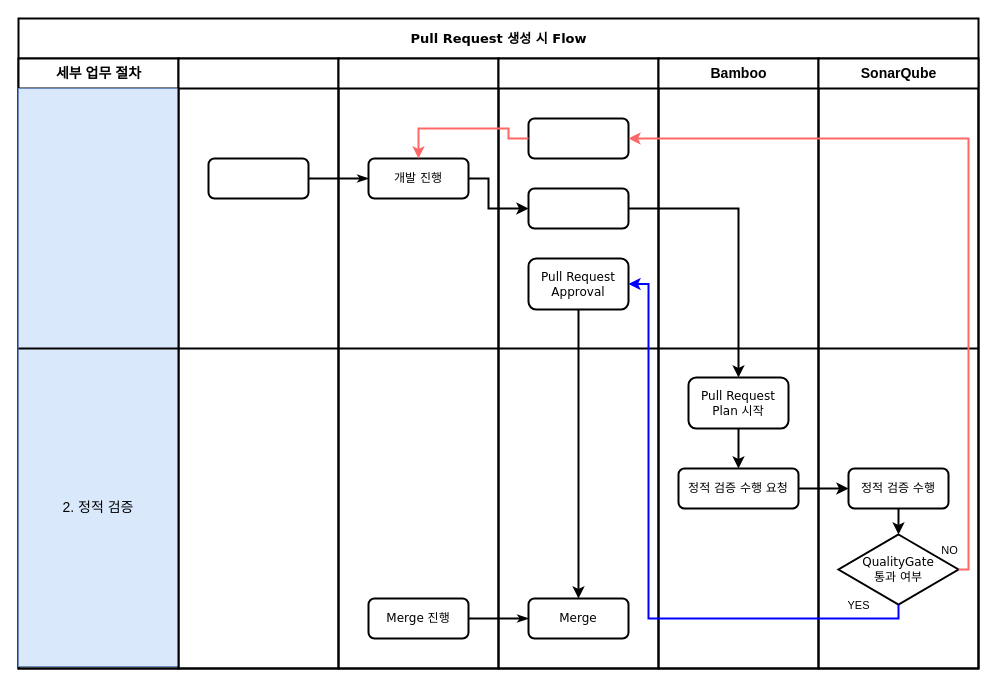
This 997x686 diagram has some shape labels left out. Here are the shapes that lost their labels. From the top down, the box of each, then its label:
(527, 117, 629, 159): Merge 제한
(207, 157, 309, 199): 개발 티켓 생성
(18, 88, 178, 348): 1. 개발 & Pull Requset
(527, 187, 629, 229): Pull Request
(177, 57, 339, 669): Jira
(337, 57, 499, 669): 개발자 (Local)
(497, 57, 659, 669): Bitbucket
